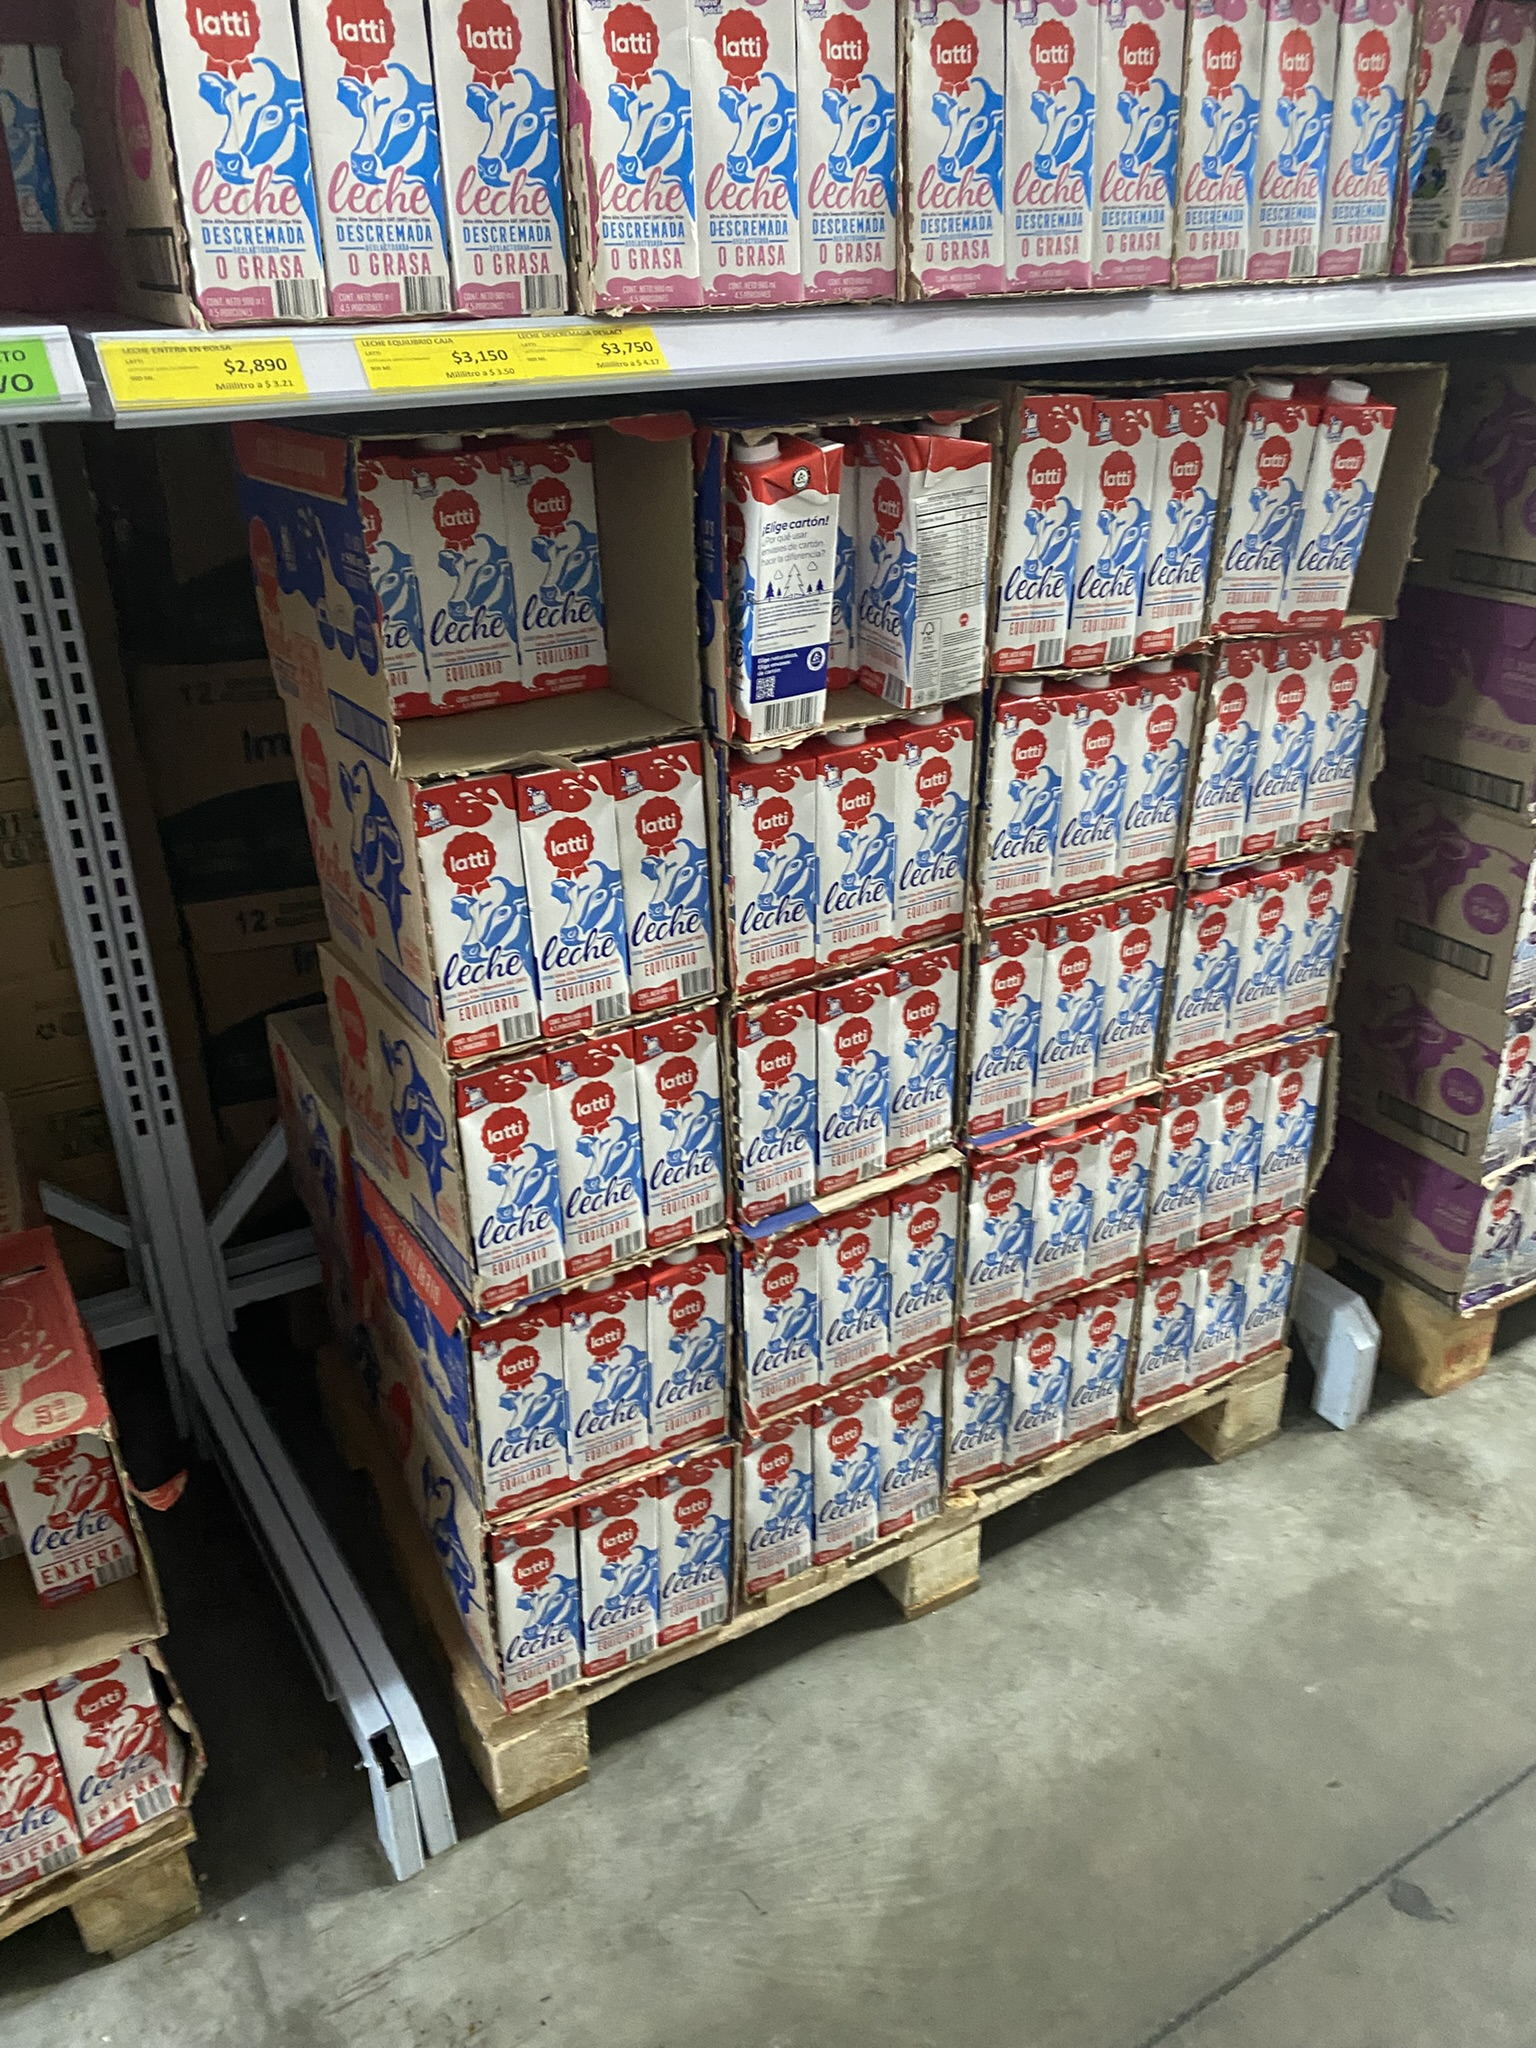Leche: (845, 419, 994, 713), (395, 784, 545, 1051), (713, 432, 841, 742), (392, 440, 508, 708), (1283, 376, 1404, 622), (986, 379, 1084, 671), (442, 1068, 570, 1285), (611, 750, 721, 993), (726, 750, 829, 976), (537, 761, 623, 1034), (739, 972, 834, 1216), (641, 997, 731, 1240), (561, 1264, 657, 1484), (515, 432, 594, 689), (581, 1487, 692, 1664), (470, 1526, 582, 1698), (1147, 390, 1221, 650), (561, 1026, 641, 1269), (461, 1322, 566, 1503), (1225, 371, 1300, 619), (1073, 387, 1139, 668), (1168, 864, 1254, 1076), (657, 1438, 747, 1635), (813, 734, 899, 940), (1192, 631, 1271, 848), (973, 927, 1052, 1137), (892, 693, 966, 916), (824, 948, 892, 1192), (892, 935, 965, 1155), (731, 1426, 834, 1579), (1226, 853, 1300, 1064), (1039, 903, 1110, 1116), (1288, 832, 1362, 1030), (744, 1216, 826, 1392), (1110, 877, 1179, 1084), (652, 1256, 726, 1438), (1002, 679, 1060, 910), (813, 1384, 895, 1545), (1068, 671, 1126, 887), (1254, 647, 1317, 845), (818, 1211, 900, 1359), (1007, 1306, 1084, 1463), (870, 1361, 944, 1524), (891, 1169, 962, 1338), (1320, 606, 1373, 824), (1131, 660, 1187, 864), (1263, 1051, 1336, 1203), (966, 1142, 1031, 1303), (944, 1330, 1007, 1480), (1036, 1124, 1094, 1280), (1136, 1269, 1200, 1405), (1150, 1087, 1205, 1243), (1073, 1266, 1123, 1434), (1205, 1063, 1255, 1219), (1097, 1097, 1139, 1277), (1242, 1219, 1291, 1355), (1205, 1237, 1234, 1376)
